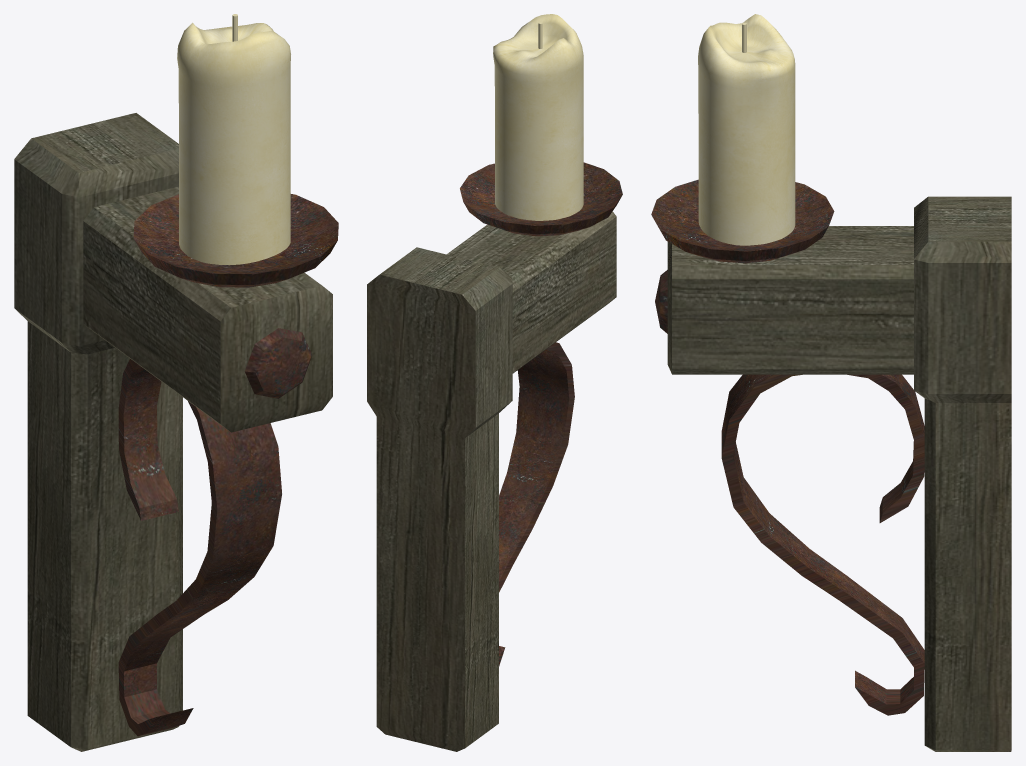
Rendered from Candle 3.FBX.
The picture shows the model from 3 angles, left to right: view 1: azimuth 30°, elevation 25°; view 2: azimuth 150°, elevation 25°; view 3: azimuth 270°, elevation 25°; orthographic projection. The views are drawn at different scales.
Visible parts, largest first — view 1: Candle 3; view 2: Candle 3; view 3: Candle 3.
Boxes of the visible parts, x1,y1,x2,y2 form: Candle 3: (14,14,338,751); Candle 3: (367,14,622,751); Candle 3: (651,14,1011,751).
Size of the model in its own units: 8.18 by 34.91 by 16.1.
Materials: 3 (3 with a texture image).
